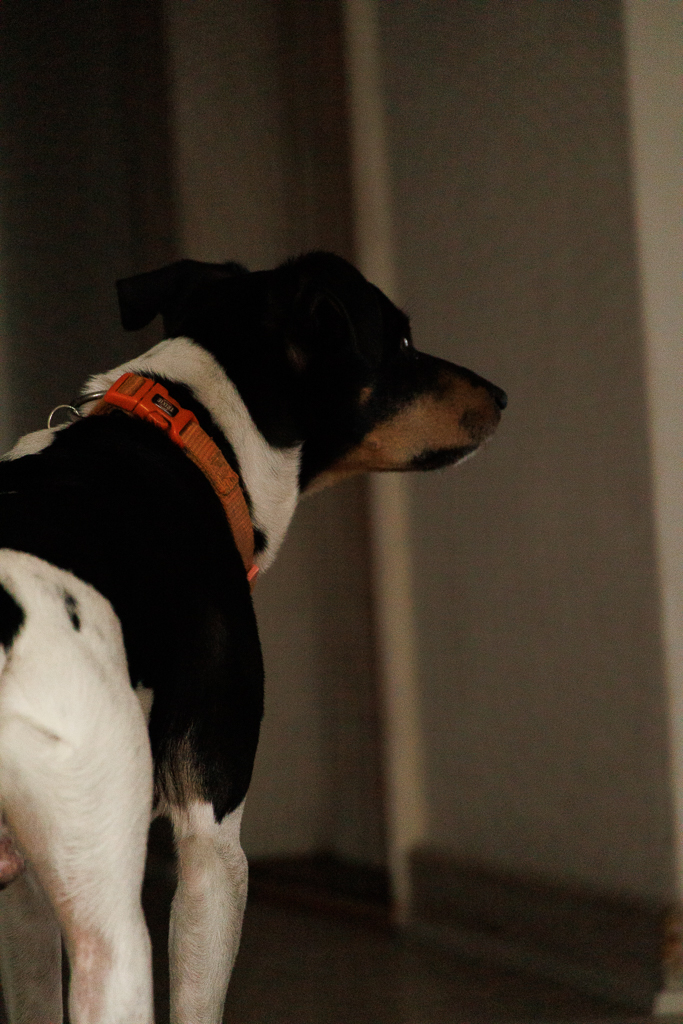Dog: (0, 229, 529, 1024)
